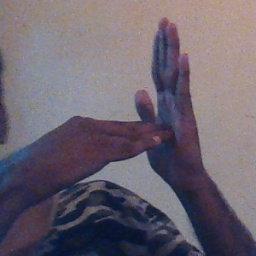Z: (87, 15, 210, 183)
